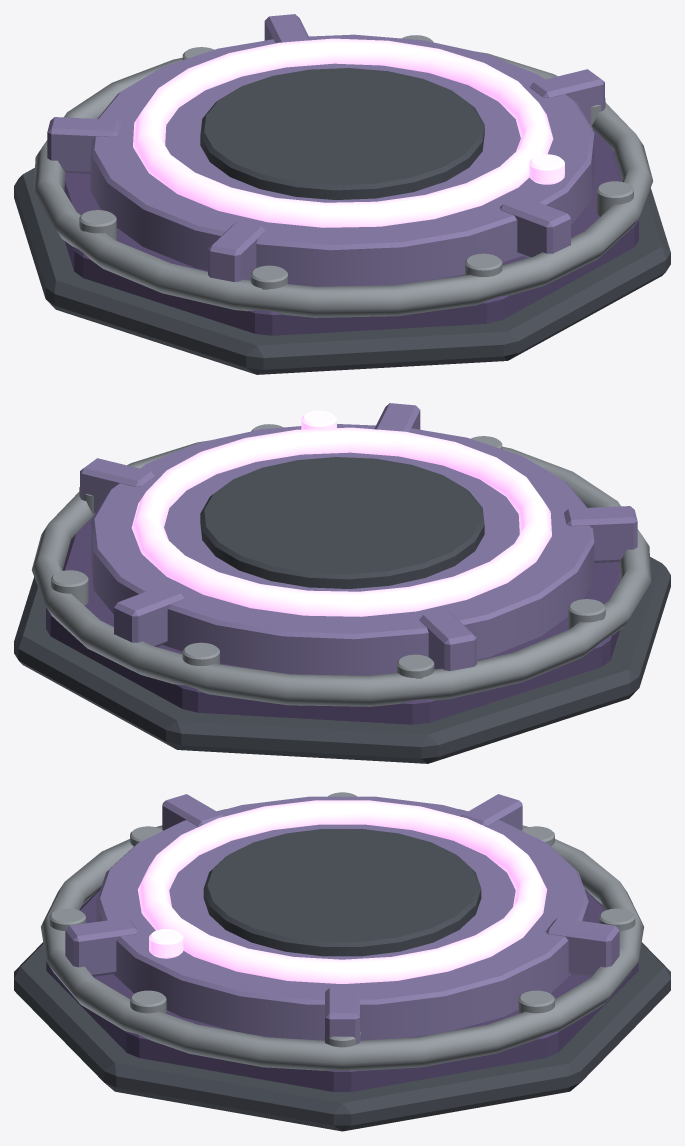
Rendered from arc_base_l1.glb.
3 views of the same model, one above another, from view 1: azimuth 30°, elevation 25°; view 2: azimuth 150°, elevation 25°; view 3: azimuth 270°, elevation 25° (orthographic). The views are drawn at different scales.
Parts seen in each view (by area): view 1: Cylinder.002, Cylinder.003, Cylinder, Torus, Torus.001, Cylinder.001, Cube.004, Cube.002, Cube.003, Cube, Cube.001, Cylinder.012 (+4 smaller); view 2: Cylinder.002, Cylinder.003, Cylinder, Torus, Torus.001, Cylinder.001, Cube.001, Cube.003, Cube.002, Cube, Cube.004, Cylinder.005 (+4 smaller); view 3: Cylinder.002, Cylinder, Cylinder.003, Torus, Torus.001, Cylinder.001, Cube.001, Cube.004, Cube, Cube.002, Cube.003, Cylinder.012 (+4 smaller).
Boxes of the visible parts, box(x1,y1,x2,y2) form: Cylinder.002: box(90, 34, 594, 286); Cylinder.003: box(200, 68, 484, 199); Cylinder: box(14, 168, 670, 374); Torus: box(33, 51, 652, 317); Torus.001: box(133, 38, 553, 227); Cylinder.001: box(64, 129, 638, 335); Cube.004: box(500, 196, 570, 257); Cube.002: box(47, 117, 120, 173); Cube.003: box(208, 221, 265, 281); Cube: box(530, 69, 604, 123); Cube.001: box(264, 14, 310, 43); Cylinder.012: box(529, 154, 564, 184); Cylinder.002: box(90, 424, 594, 675); Cylinder.003: box(200, 457, 484, 588); Cylinder: box(14, 557, 670, 763); Torus: box(32, 440, 651, 706); Torus.001: box(131, 427, 551, 616); Cylinder.001: box(46, 518, 620, 724); Cube.001: box(114, 585, 184, 646); Cube.003: box(564, 506, 637, 562); Cube.002: box(419, 610, 476, 670); Cube: box(80, 458, 154, 512); Cube.004: box(374, 403, 420, 432); Cylinder.005: box(51, 570, 88, 605); Cylinder.002: box(96, 796, 588, 1040); Cylinder: box(14, 900, 670, 1131); Cylinder.003: box(203, 829, 481, 956); Torus: box(41, 809, 643, 1070); Torus.001: box(137, 800, 547, 983); Cylinder.001: box(46, 889, 638, 1091); Cube.001: box(545, 918, 619, 976); Cube.004: box(65, 918, 139, 976); Cube: box(325, 988, 359, 1044); Cube.002: box(460, 794, 522, 830); Cube.003: box(162, 794, 224, 830); Cylinder.012: box(149, 929, 183, 958).
Bounding box in the file's own units: 2.08 × 0.4 × 2.08.
